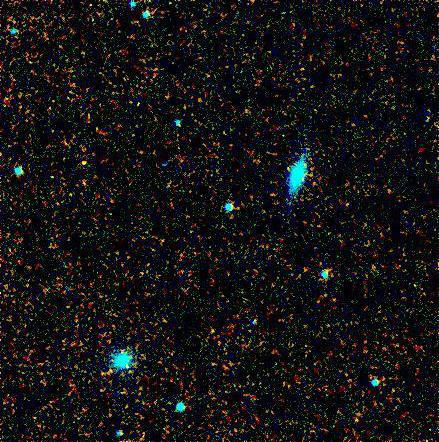star: (62, 147, 92, 177)
